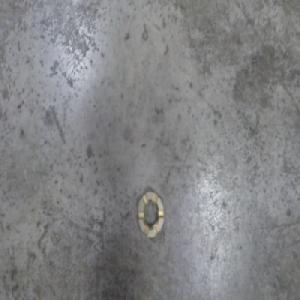Nut: (136, 186, 164, 239)
